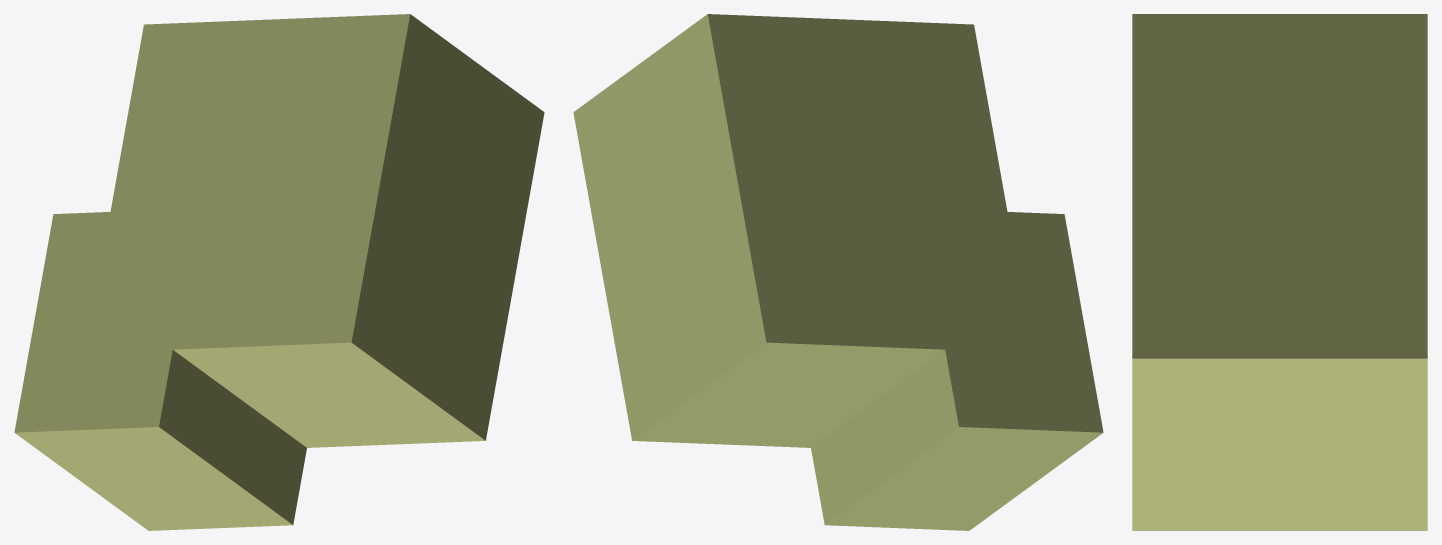
The picture shows the model from 3 angles, left to right: view 1: azimuth 30°, elevation 25°; view 2: azimuth 150°, elevation 25°; view 3: azimuth 270°, elevation 25°; orthographic projection. The views are drawn at different scales.
Parts seen in each view (by area): view 1: 0_1_2_0_3_3_2_1_0_2_0; view 2: 0_1_2_0_3_3_2_1_0_2_0; view 3: 0_1_2_0_3_3_2_1_0_2_0.
Part boxes in pixels (bbox=[...]): 0_1_2_0_3_3_2_1_0_2_0: bbox=[14, 14, 544, 530]; 0_1_2_0_3_3_2_1_0_2_0: bbox=[573, 14, 1103, 530]; 0_1_2_0_3_3_2_1_0_2_0: bbox=[1132, 14, 1427, 530].
Bounding box in the file's own units: 10.21 × 10.01 × 6.
